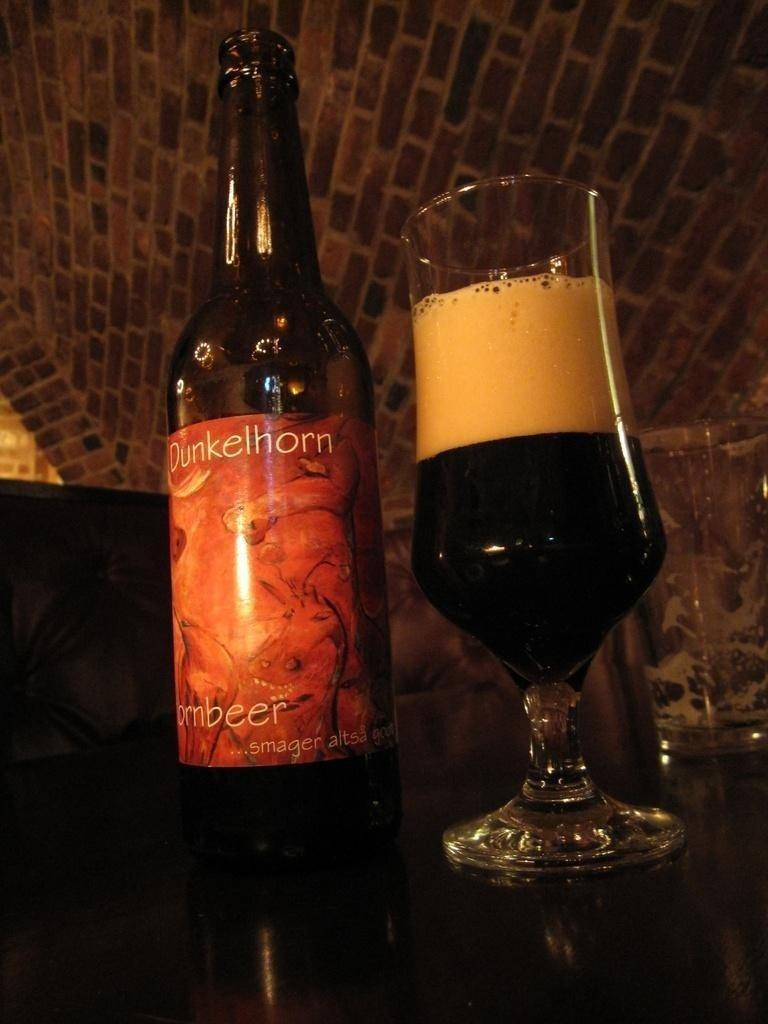bottle-glass: (170, 30, 401, 852)
glass-wine: (401, 181, 691, 876)
